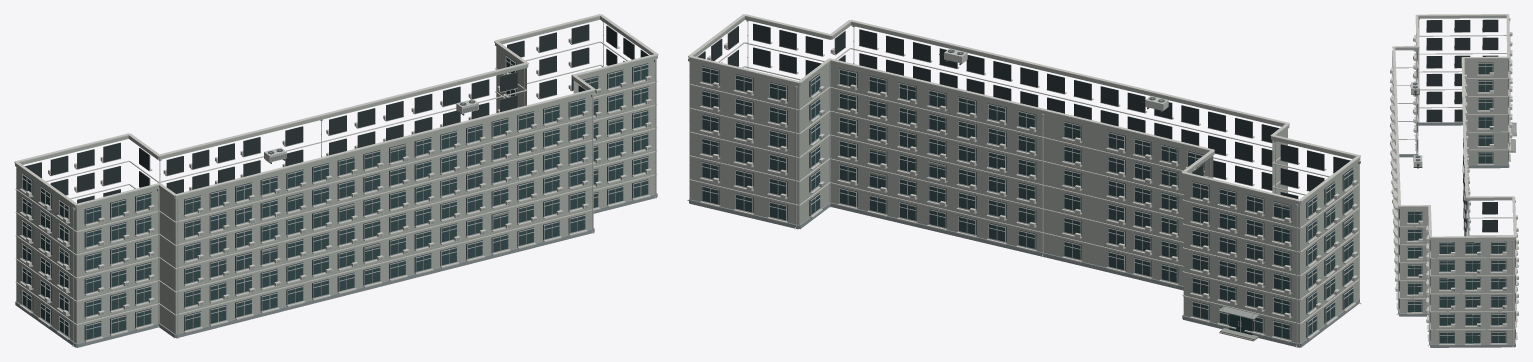
File: osm_way_223859792.glb
3 views of the same model, side by side, from view 1: azimuth 30°, elevation 25°; view 2: azimuth 150°, elevation 25°; view 3: azimuth 270°, elevation 25° (orthographic). The views are drawn at different scales.
Visible parts, largest first — view 1: Windows and facade details | 6, Architecture | 6, Roof services | 6, EXTERIOR::osm_way_223859792::rainwater and roof service deta; view 2: Architecture | 6, Windows and facade details | 6, Roof services | 6, EXTERIOR::osm_way_223859792::rainwater and roof service deta, EXTERIOR::osm_way_223859792::inferred entry doors canopy and; view 3: Windows and facade details | 6, Architecture | 6, Roof services | 6, EXTERIOR::osm_way_223859792::rainwater and roof service deta, EXTERIOR::osm_way_223859792::inferred entry doors canopy and.
Boxes of the visible parts, left/top/right/bottom form: Windows and facade details | 6: left=19, top=24, right=651, bottom=342; Architecture | 6: left=15, top=16, right=657, bottom=347; Roof services | 6: left=14, top=14, right=658, bottom=205; EXTERIOR::osm_way_223859792::rainwater and roof service deta: left=72, top=21, right=656, bottom=346; Architecture | 6: left=688, top=16, right=1360, bottom=347; Windows and facade details | 6: left=697, top=23, right=1357, bottom=342; Roof services | 6: left=688, top=14, right=1360, bottom=201; EXTERIOR::osm_way_223859792::rainwater and roof service deta: left=687, top=20, right=1361, bottom=347; EXTERIOR::osm_way_223859792::inferred entry doors canopy and: left=1218, top=304, right=1259, bottom=341; Windows and facade details | 6: left=1390, top=19, right=1518, bottom=345; Architecture | 6: left=1395, top=15, right=1515, bottom=347; Roof services | 6: left=1392, top=14, right=1516, bottom=238; EXTERIOR::osm_way_223859792::rainwater and roof service deta: left=1396, top=18, right=1515, bottom=347; EXTERIOR::osm_way_223859792::inferred entry doors canopy and: left=1509, top=122, right=1516, bottom=152.
Bounding box in the file's own units: 86.51 × 20.58 × 20.87.
